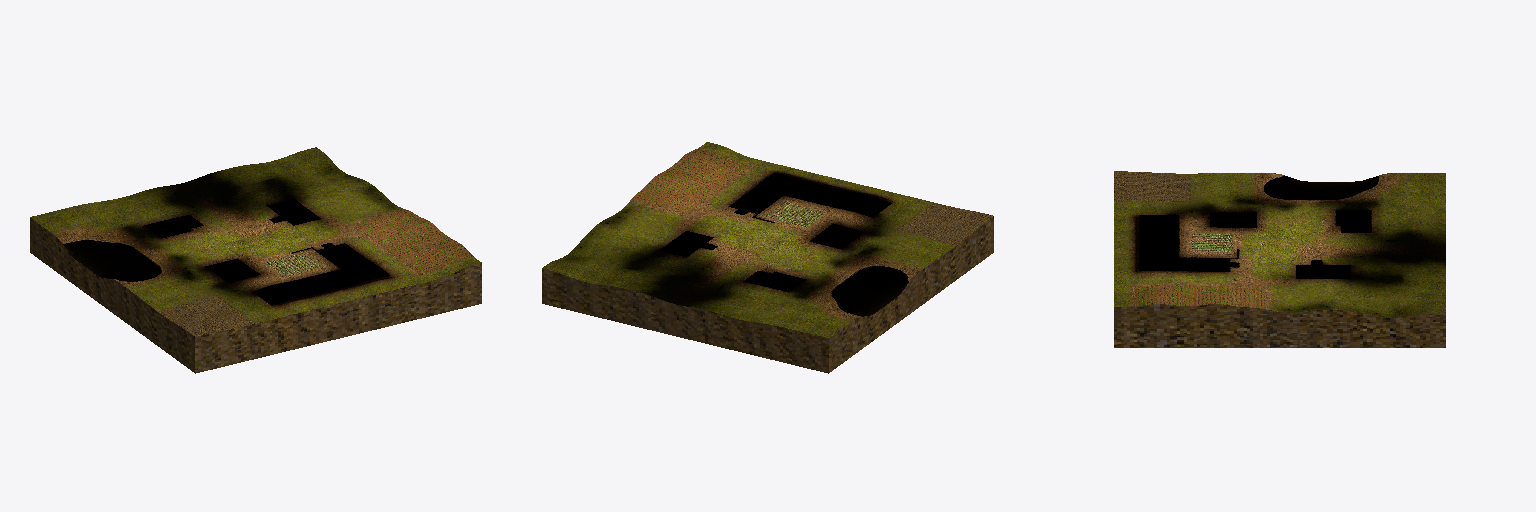
3 views of the same model, side by side, from view 1: azimuth 30°, elevation 25°; view 2: azimuth 150°, elevation 25°; view 3: azimuth 270°, elevation 25° (orthographic).
Visible parts, largest first — view 1: zeme_ZEME_PLKN_Plane_001; view 2: zeme_ZEME_PLKN_Plane_001; view 3: zeme_ZEME_PLKN_Plane_001.
Part boxes in pixels (x1,y1,x2,y2): zeme_ZEME_PLKN_Plane_001: (30, 147, 481, 373); zeme_ZEME_PLKN_Plane_001: (542, 142, 993, 373); zeme_ZEME_PLKN_Plane_001: (1114, 171, 1445, 347).
Size of the model in its own units: 64.71 by 9.51 by 64.71.
1 materials, 1 textured.